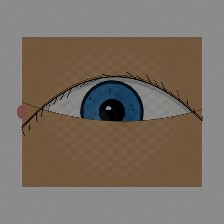hemorrhage_spot: (71, 82, 146, 142)
